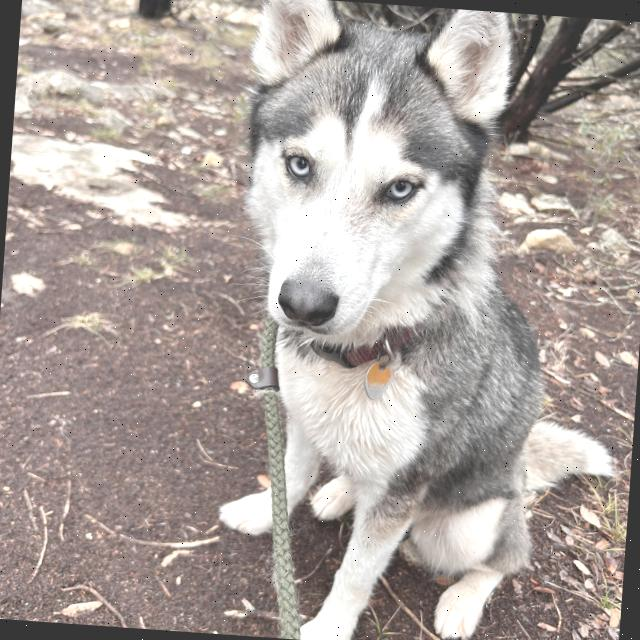siberian_husky_dog: (225, 0, 522, 369)
